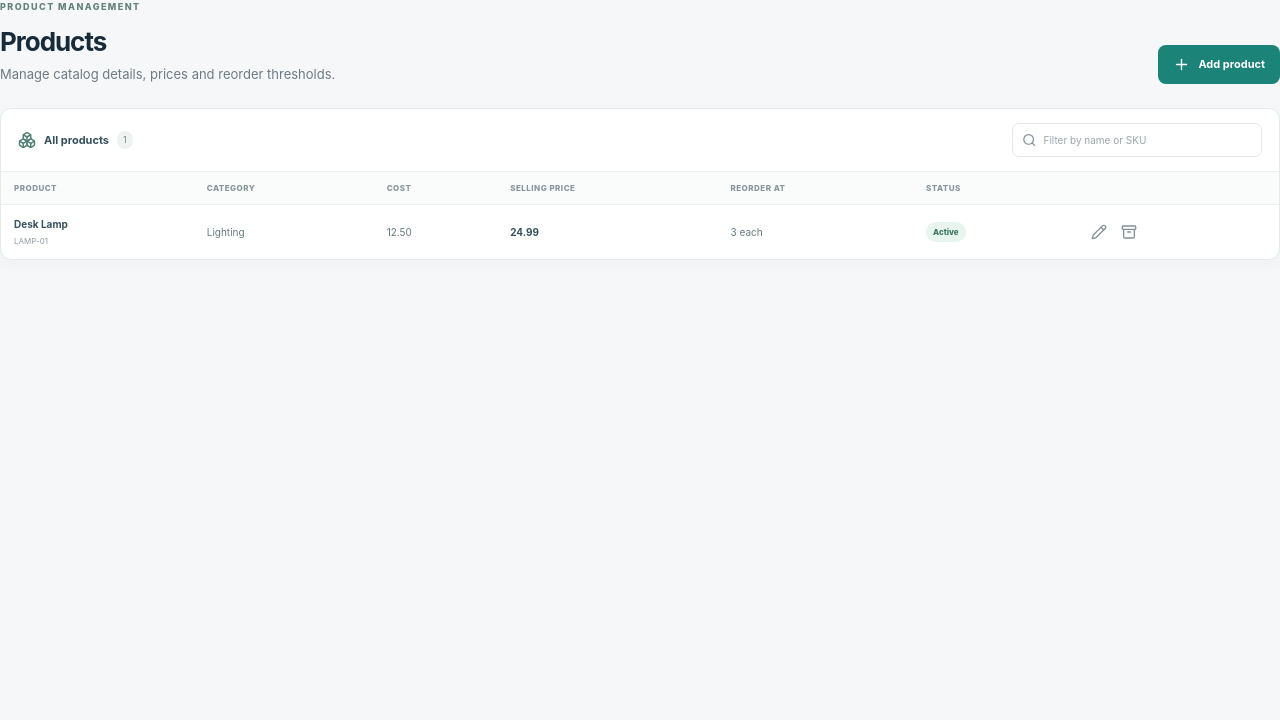
ProductsPage › loads the existing values and updates a selected product
Later steps or results of the test are not shown.
Expected: the text "Desk Lamp" is shown, [14,218,68,230]
Click the button named "Edit Desk Lamp": {"x": 1099, "y": 232} [1084,217,1114,247]
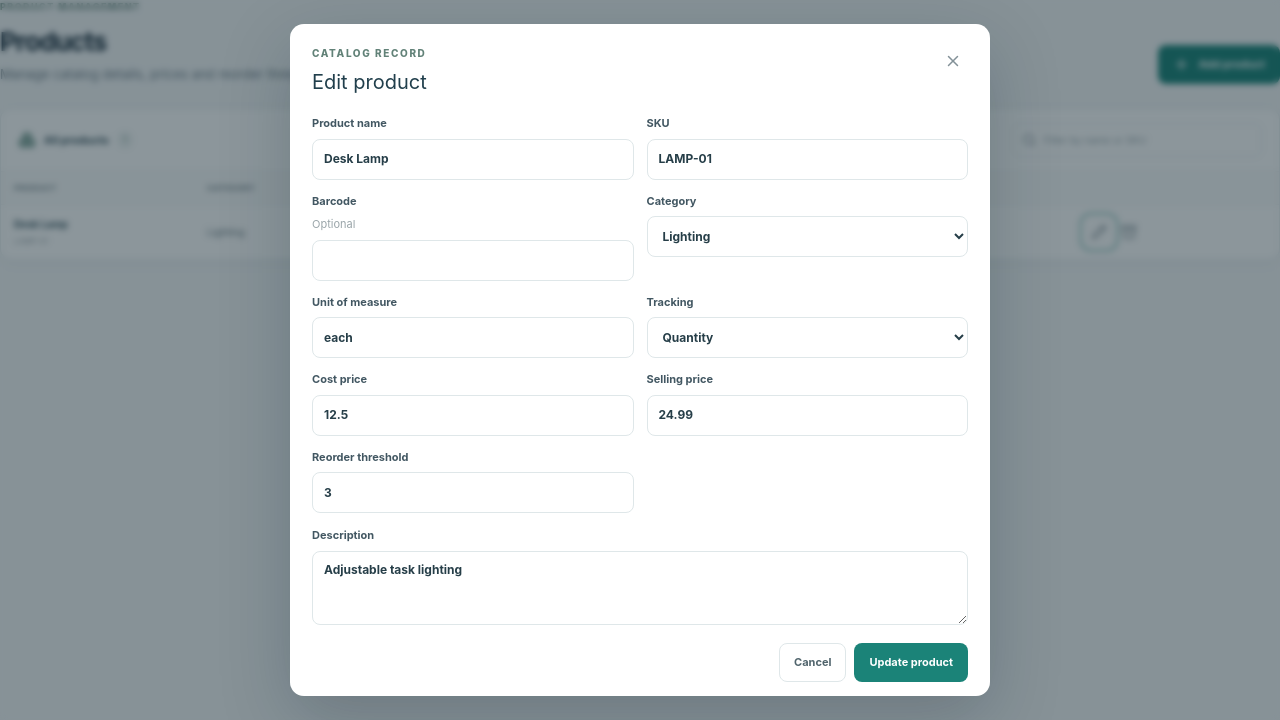
Expected: the field labelled "Product name" holds "Desk Lamp", [312,138,634,180]
Expected: the dropdown labelled "Category" shows "Lighting", [646,216,968,257]
